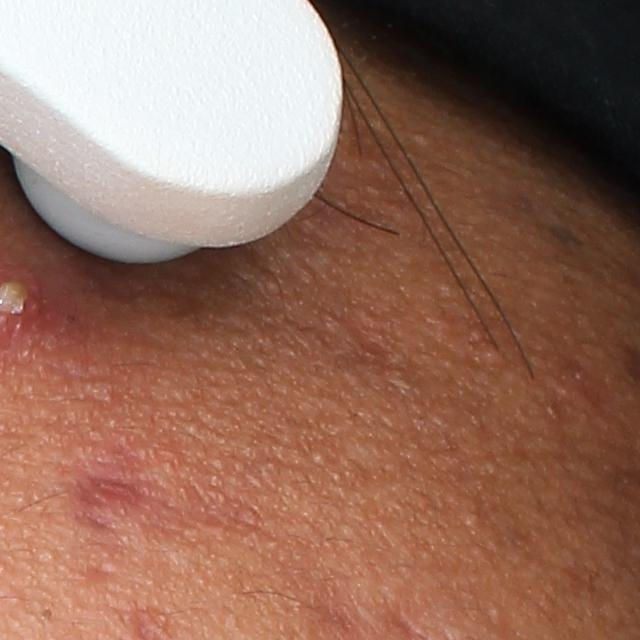atrophic_scar: (55, 438, 280, 551)
comedo: (312, 449, 329, 468)
